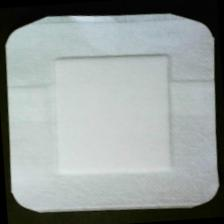Dressing: (1, 5, 224, 220)
